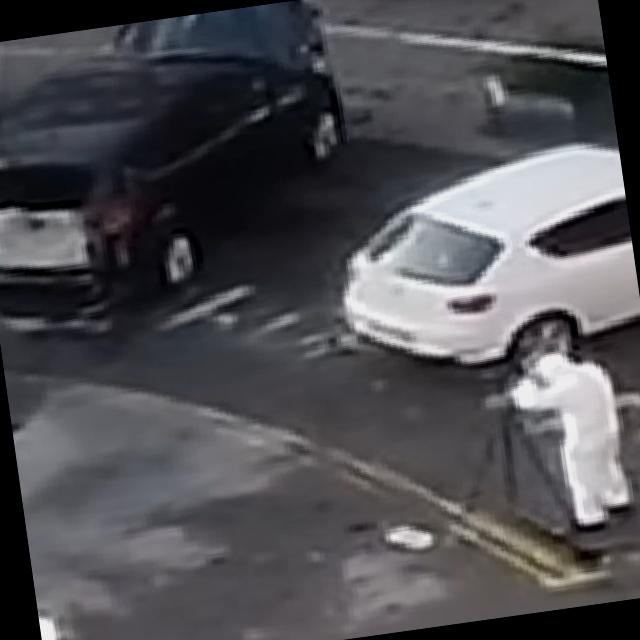person: (498, 340, 636, 542)
